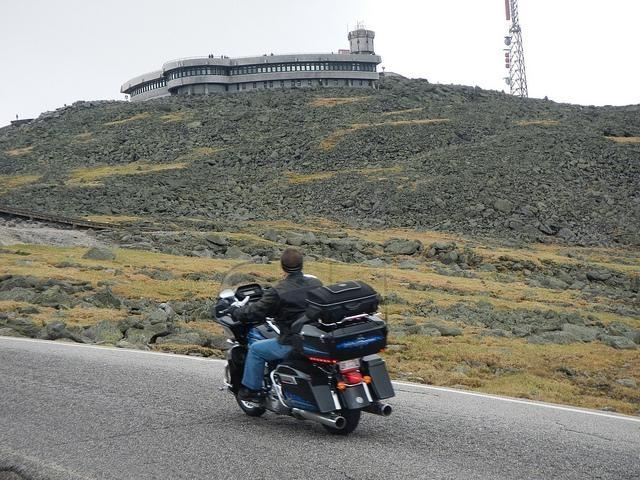motorcycle: (208, 259, 397, 435)
